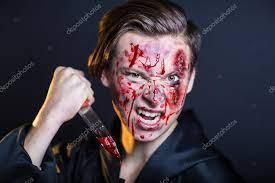Fire: (114, 42, 191, 140), (96, 136, 121, 159)
